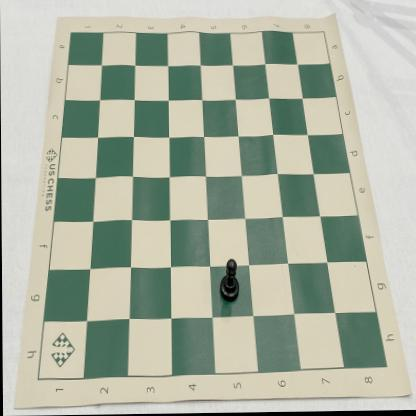black-pawn: (219, 259, 240, 303)
